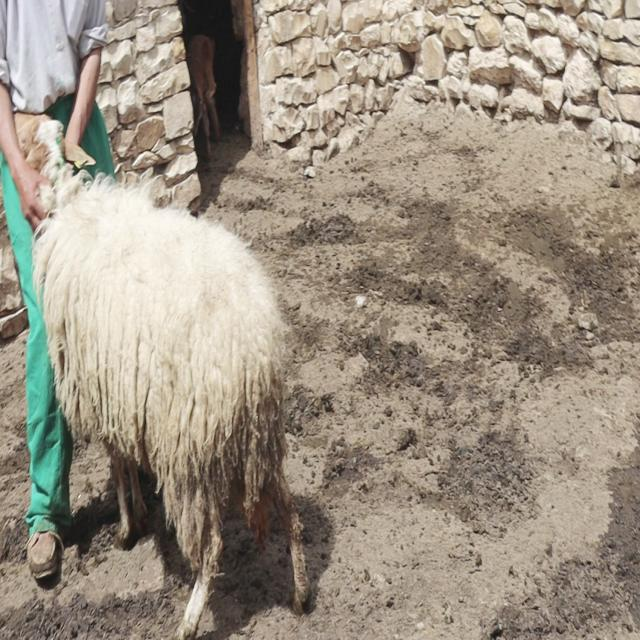Score_4: (15, 113, 309, 639)
